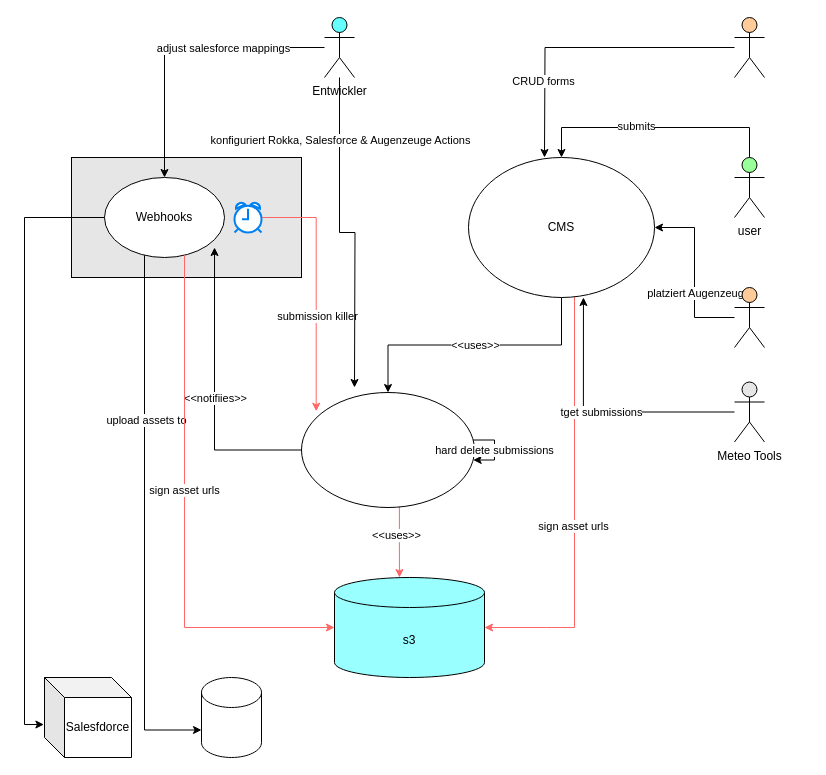
Some shapes in this 826 by 775 pixel diagram are drawn without their labels. Here are the shapes that lost their labels. From the top down, the centre of each, then its label:
(x=749, y=47): Redaktor
(x=749, y=317): Meteo/SRF3 Redaktor
(x=387, y=450): formio API/GUI
(x=231, y=717): rokka
